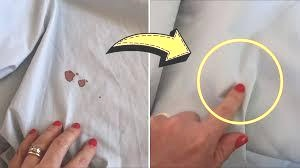blood: (64, 70, 86, 88)
